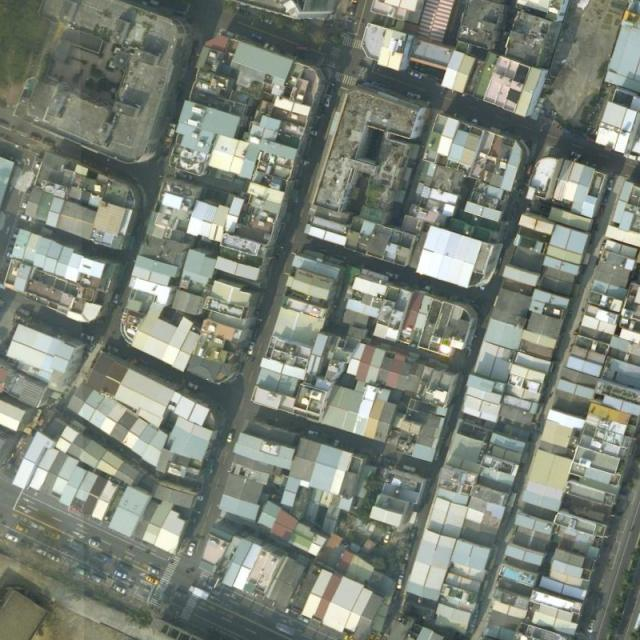vehicle: (188, 583, 210, 602), (14, 522, 31, 535), (31, 546, 48, 558), (114, 568, 128, 581), (145, 574, 160, 586), (111, 583, 126, 595), (382, 531, 394, 546), (403, 542, 413, 560), (42, 139, 58, 150), (147, 565, 161, 577), (47, 552, 62, 563), (5, 532, 20, 543), (186, 542, 197, 557), (406, 90, 421, 101), (384, 270, 400, 280), (586, 619, 596, 635), (98, 552, 113, 562), (74, 568, 89, 578), (86, 538, 102, 547), (29, 132, 42, 143), (48, 530, 61, 541), (90, 575, 105, 584), (623, 153, 638, 162), (186, 382, 199, 392), (118, 562, 134, 570), (410, 526, 418, 542), (247, 341, 256, 355), (570, 151, 584, 160), (410, 70, 424, 79), (606, 179, 616, 191), (30, 521, 43, 530), (260, 16, 272, 25), (20, 214, 33, 222), (226, 432, 235, 443), (1, 118, 10, 129), (325, 94, 332, 108), (82, 334, 94, 342), (603, 190, 611, 202), (70, 506, 81, 514), (343, 634, 357, 640), (398, 574, 404, 588), (400, 562, 407, 574), (403, 465, 415, 472), (368, 632, 377, 640), (114, 292, 120, 304), (1, 282, 7, 291), (374, 634, 383, 640)
